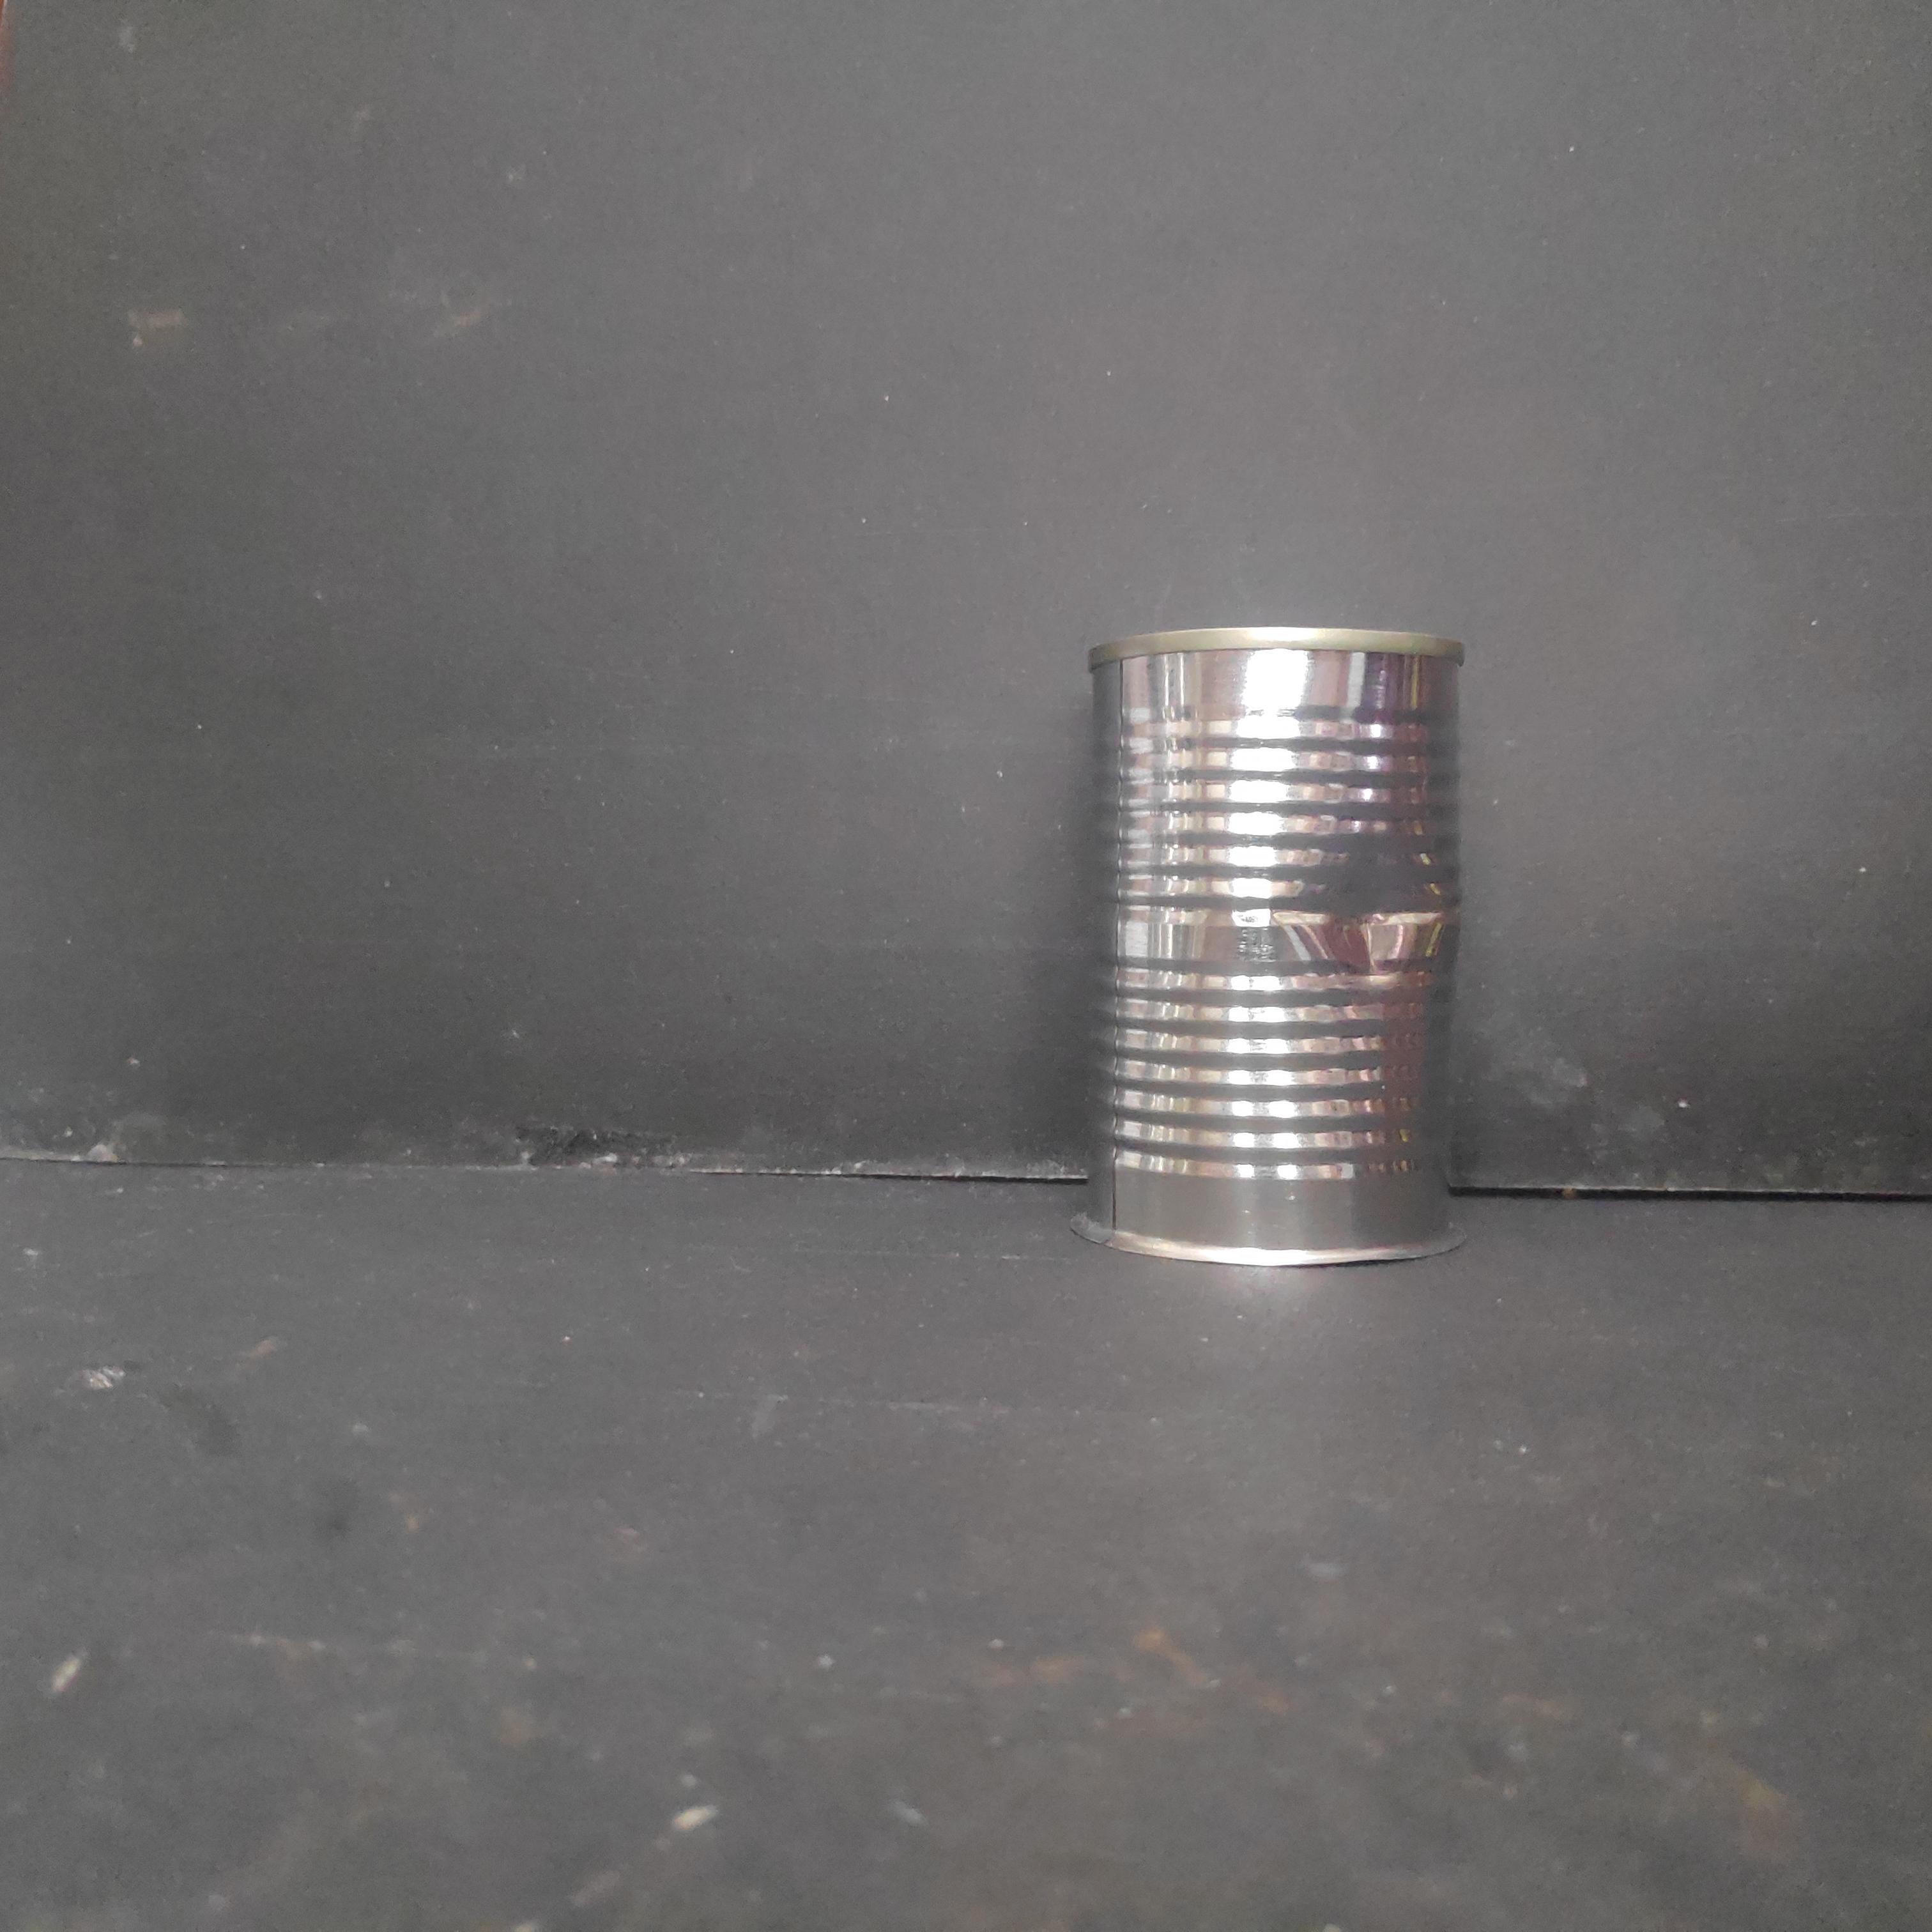Minor Defect: (1077, 614, 1479, 1276)
